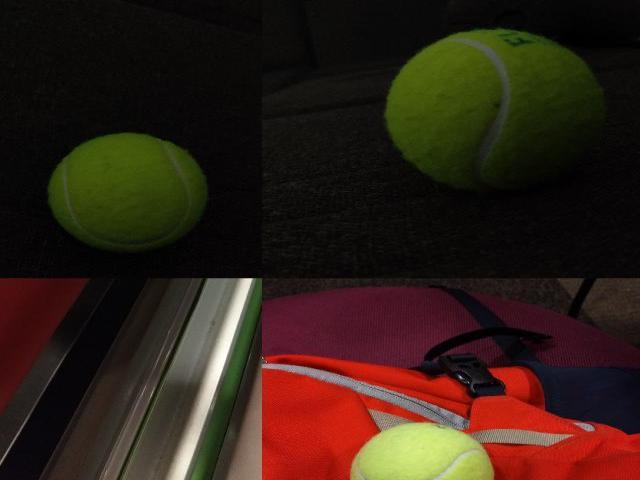tennis-ball: (384, 28, 608, 190), (47, 132, 207, 253), (349, 422, 496, 480)
